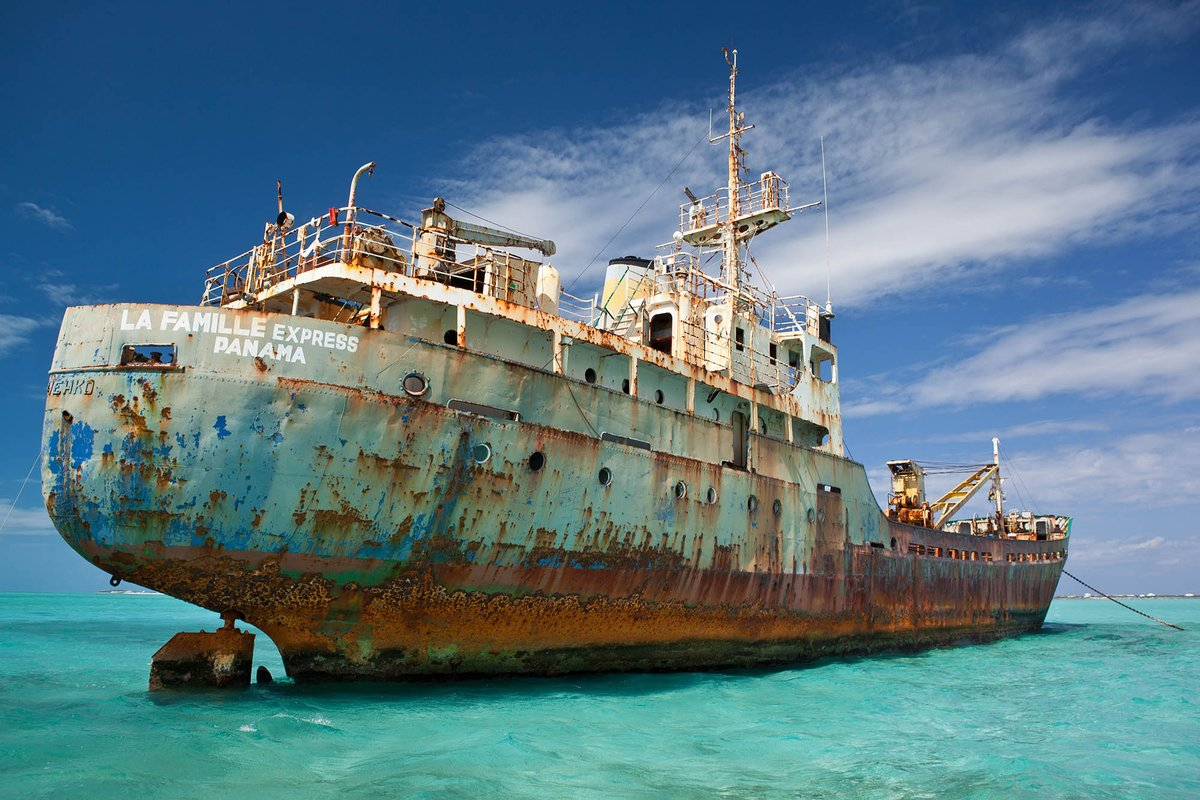rust: (366, 564, 1047, 640)
